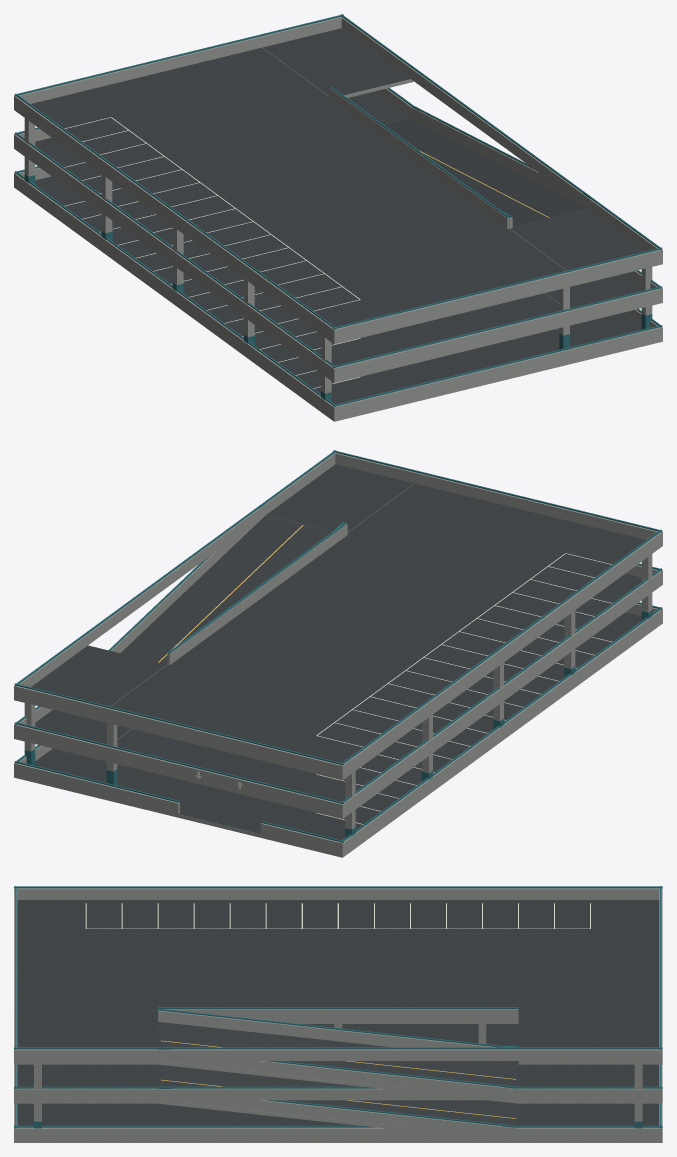
Rendered from small_03.glb.
The picture shows the model from 3 angles, top to bottom: view 1: azimuth 30°, elevation 25°; view 2: azimuth 150°, elevation 25°; view 3: azimuth 270°, elevation 25°; orthographic projection.
Visible parts, largest first — view 1: small_03_Asphalt, small_03_Concrete, small_03_Teal, small_03_Paint; view 2: small_03_Asphalt, small_03_Concrete, small_03_Teal, small_03_Paint; view 3: small_03_Asphalt, small_03_Concrete, small_03_Teal, small_03_Paint, small_03_Yellow.
Part boxes in pixels (x1=…): small_03_Asphalt: x1=31, y1=28, x2=645, y2=404; small_03_Concrete: x1=14, y1=16, x2=662, y2=421; small_03_Teal: x1=14, y1=14, x2=662, y2=406; small_03_Paint: x1=64, y1=117, x2=360, y2=388; small_03_Asphalt: x1=31, y1=464, x2=645, y2=840; small_03_Concrete: x1=14, y1=452, x2=662, y2=857; small_03_Teal: x1=14, y1=450, x2=662, y2=842; small_03_Paint: x1=316, y1=553, x2=612, y2=824; small_03_Asphalt: x1=17, y1=900, x2=659, y2=1125; small_03_Concrete: x1=14, y1=888, x2=662, y2=1142; small_03_Teal: x1=14, y1=886, x2=662, y2=1128; small_03_Paint: x1=85, y1=903, x2=590, y2=928; small_03_Yellow: x1=161, y1=1040, x2=515, y2=1118.
Bounding box in the file's own units: 32 × 8.68 × 54.02.
Materials: 6 (2 with a texture image).
